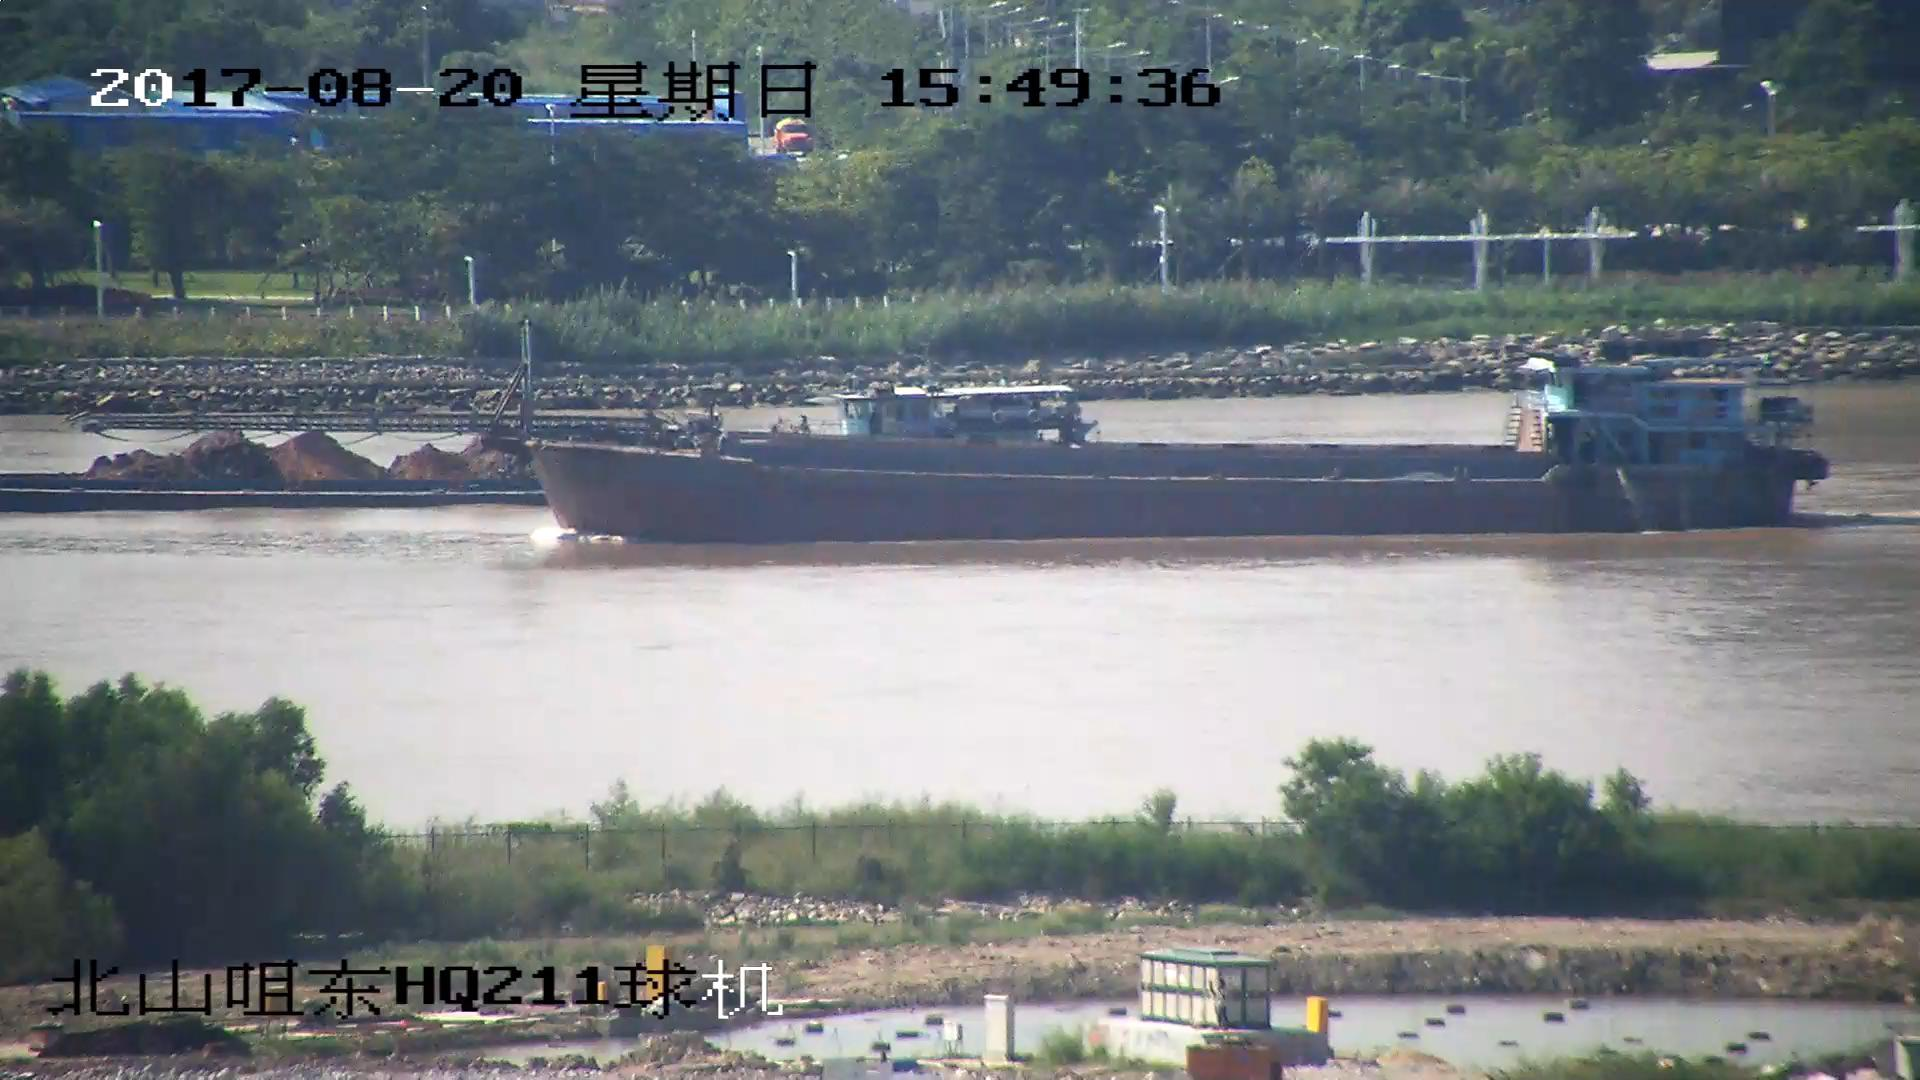Ship: (100, 349, 1828, 545), (3, 382, 1095, 517)
